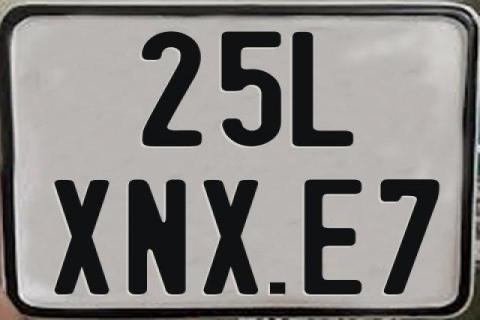0: (219, 32, 284, 150), (142, 32, 202, 152), (380, 179, 440, 297)
E: (301, 177, 365, 293)
L: (290, 32, 356, 147)
N: (127, 178, 191, 298)
X: (52, 179, 113, 295), (201, 180, 260, 298)
